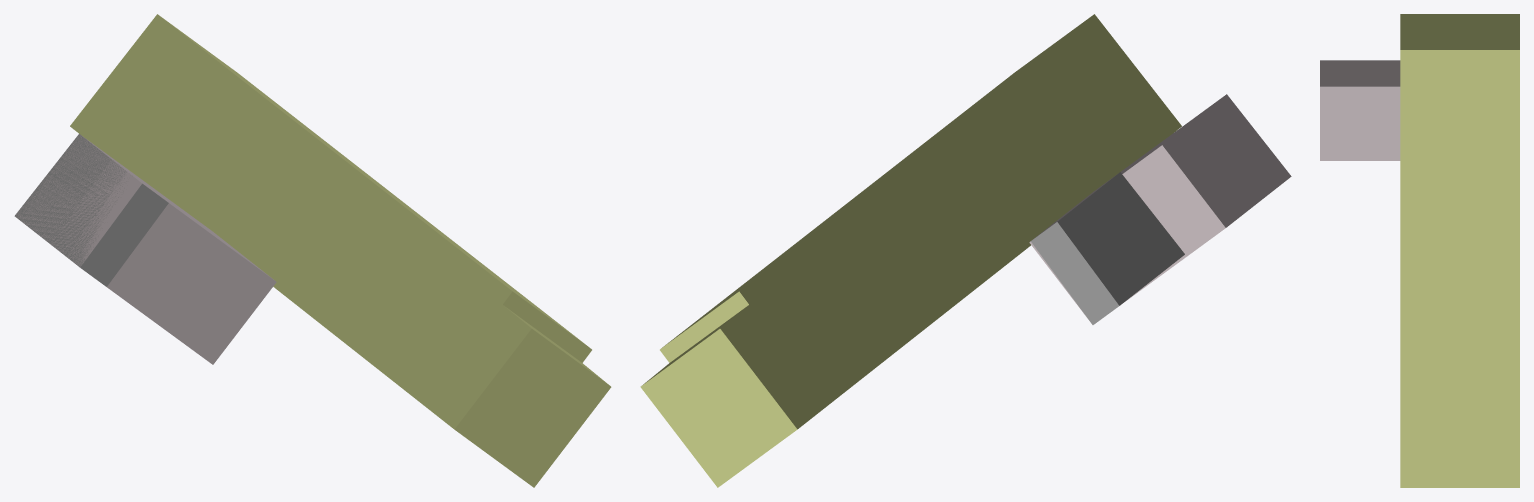
3 renders of one model, left to right at view 1: azimuth 30°, elevation 25°; view 2: azimuth 150°, elevation 25°; view 3: azimuth 270°, elevation 25°, orthographic. The views are drawn at different scales.
Parts seen in each view (by area): view 1: 0_1_2_0_3_0_2_0; view 2: 0_1_2_0_3_0_2_0; view 3: 0_1_2_0_3_0_2_0.
Part boxes in pixels (box(x1,y1,x2,y2)): 0_1_2_0_3_0_2_0: box(14, 14, 611, 487); 0_1_2_0_3_0_2_0: box(640, 14, 1291, 487); 0_1_2_0_3_0_2_0: box(1320, 14, 1519, 487).
Bounding box in the file's own units: 33.71 × 30.36 × 15.05.
